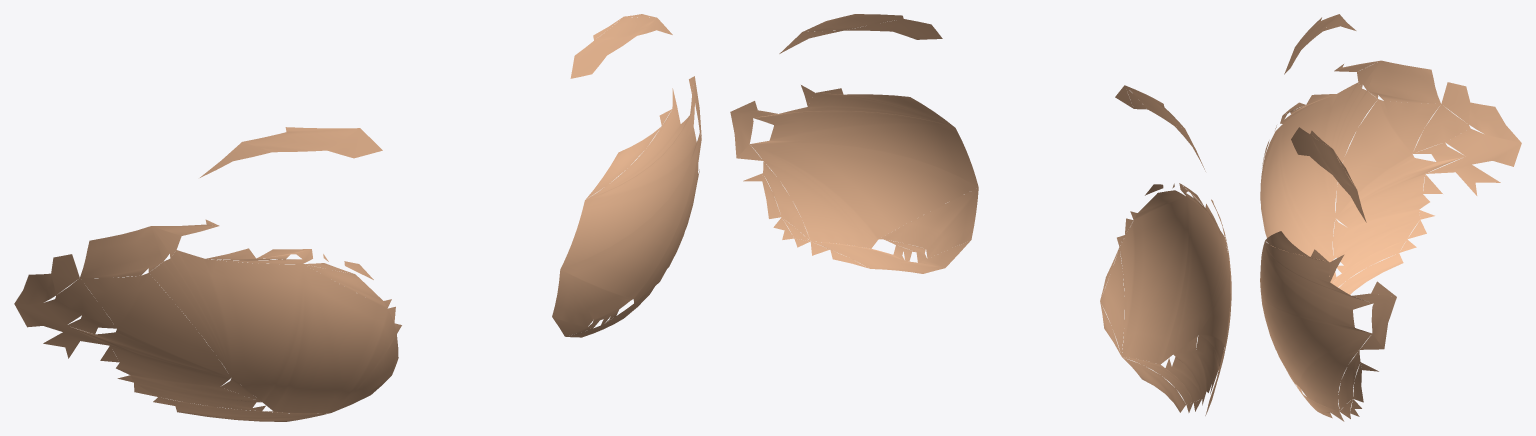
Rendered from eyes-sparkly.glb.
The picture shows the model from 3 angles, left to right: view 1: azimuth 30°, elevation 25°; view 2: azimuth 150°, elevation 25°; view 3: azimuth 270°, elevation 25°; orthographic projection. The views are drawn at different scales.
Parts seen in each view (by area): view 1: eyes, brows; view 2: eyes, brows; view 3: eyes, brows.
Part boxes in pixels (bbox=[...]): eyes: bbox=[14, 76, 701, 421]; brows: bbox=[200, 14, 672, 177]; eyes: bbox=[730, 85, 1231, 415]; brows: bbox=[779, 14, 1205, 171]; eyes: bbox=[1260, 60, 1521, 421]; brows: bbox=[1284, 14, 1366, 222].
Bounding box in the file's own units: 0.72 × 0.37 × 0.2942.
